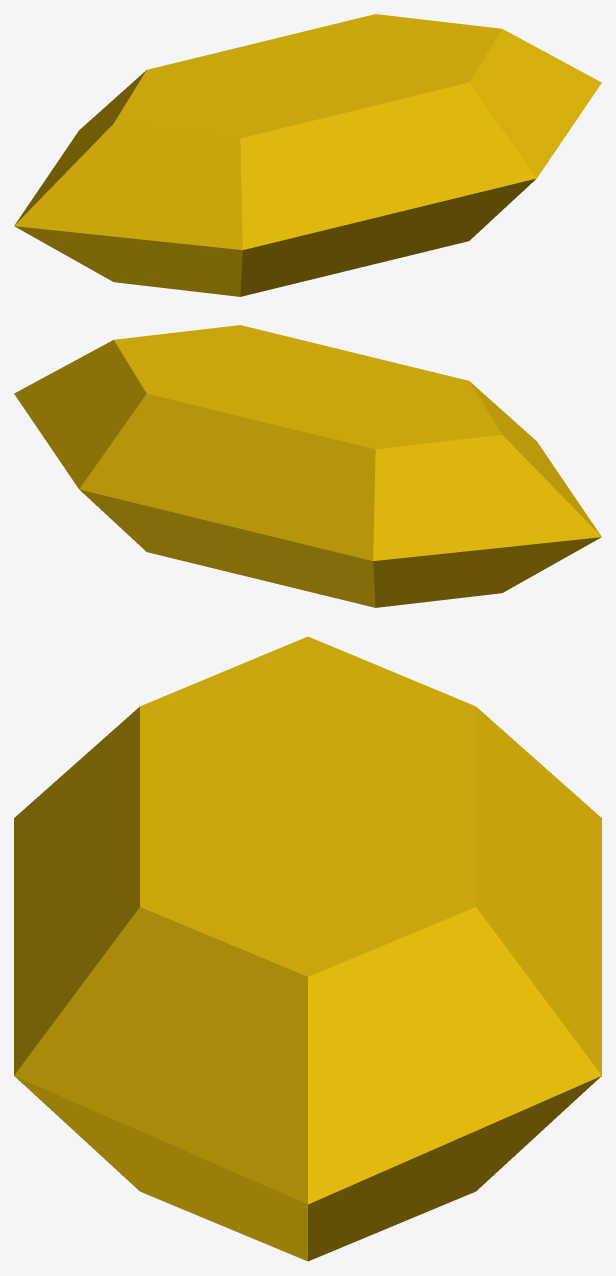
Rendered from kin_daiya2.fbx.
3 views of the same model, one above another, from view 1: azimuth 30°, elevation 25°; view 2: azimuth 150°, elevation 25°; view 3: azimuth 270°, elevation 25° (orthographic). The views are drawn at different scales.
Visible parts, largest first — view 1: pCylinder1; view 2: pCylinder1; view 3: pCylinder1.
Boxes of the visible parts, x1,y1,x2,y2 form: pCylinder1: [14, 14, 601, 296]; pCylinder1: [14, 325, 601, 607]; pCylinder1: [14, 636, 601, 1261].
Bounding box in the file's own units: 2.81 × 0.724 × 1.36.
